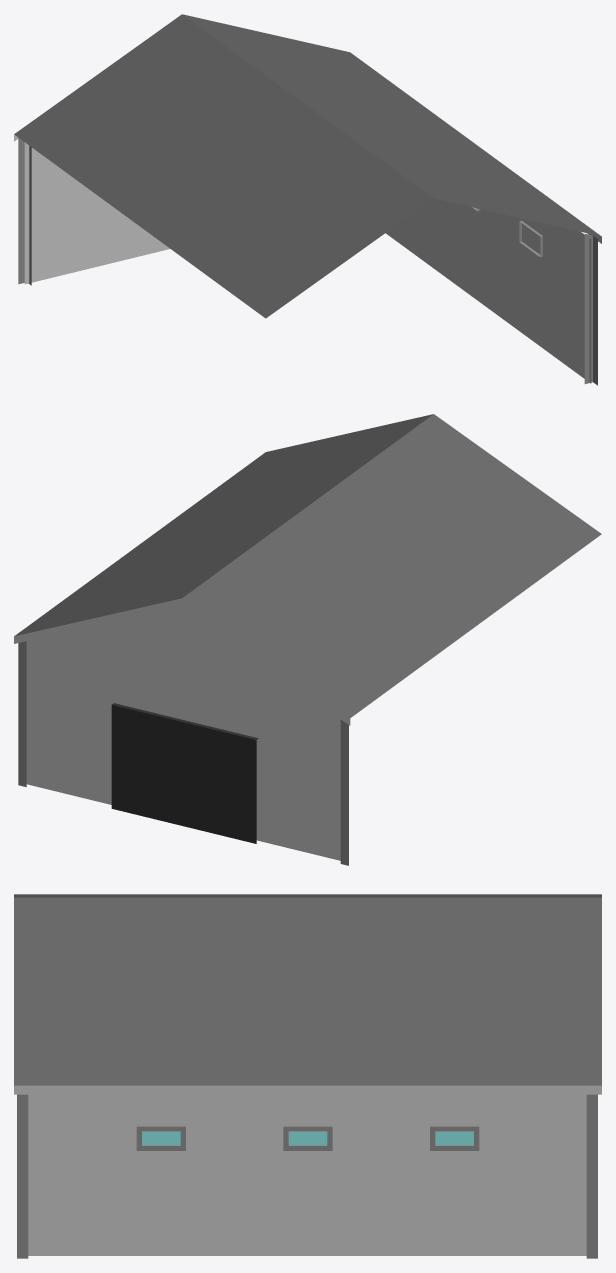
Rendered from terrain.fbx.
The picture shows the model from 3 angles, top to bottom: view 1: azimuth 30°, elevation 25°; view 2: azimuth 150°, elevation 25°; view 3: azimuth 270°, elevation 25°; orthographic projection. The views are drawn at different scales.
Visible parts, largest first — view 1: Cube; view 2: Cube; view 3: Cube.
Boxes of the visible parts, x1,y1,x2,y2 form: Cube: (14,14,601,385); Cube: (14,414,601,865); Cube: (14,894,601,1258).
Size of what is drawn, in the model's own units: 46317 by 30189 by 60088.
